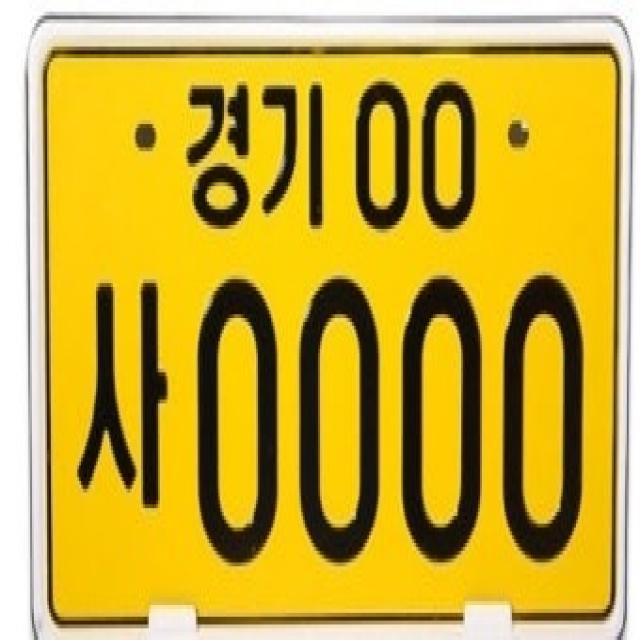car: (29, 9, 632, 640)
